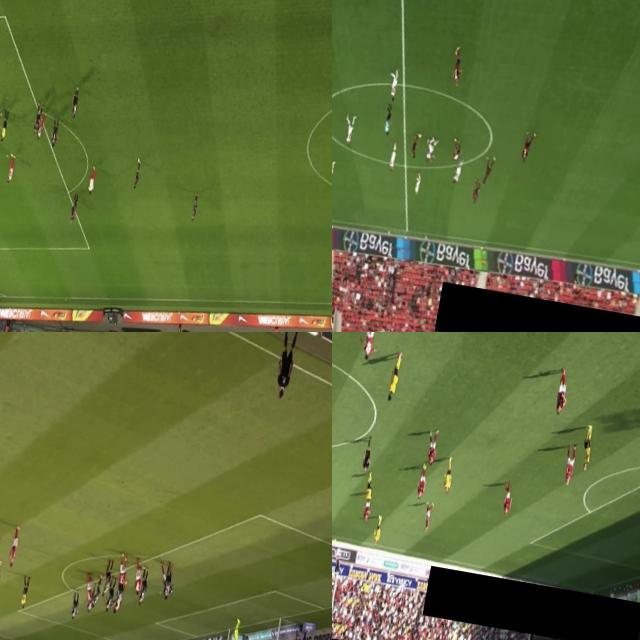ball: (418, 132, 422, 140)
player: (384, 350, 405, 402), (578, 424, 595, 476), (553, 367, 570, 418), (450, 44, 466, 92), (384, 66, 402, 106), (414, 463, 431, 504), (562, 448, 578, 490), (357, 332, 378, 363), (518, 130, 536, 166), (135, 566, 150, 608), (160, 564, 176, 602), (157, 564, 176, 596), (440, 454, 456, 491), (424, 428, 438, 468), (361, 470, 377, 504), (100, 559, 114, 596), (88, 577, 105, 606), (132, 560, 146, 594), (370, 512, 384, 546), (68, 84, 81, 120), (481, 156, 496, 187), (8, 528, 20, 566), (500, 486, 515, 516), (48, 115, 61, 148), (189, 188, 201, 223), (67, 192, 79, 227), (32, 100, 44, 135), (34, 110, 47, 142), (116, 554, 128, 588), (112, 582, 124, 616), (112, 579, 126, 608), (227, 615, 243, 640), (86, 163, 98, 196), (344, 116, 357, 146), (68, 592, 80, 624), (420, 504, 432, 536), (102, 584, 116, 610), (360, 494, 374, 520), (5, 152, 16, 184), (132, 156, 142, 190), (387, 143, 398, 173), (408, 130, 419, 160), (452, 158, 464, 185), (412, 169, 423, 198), (471, 177, 482, 206), (450, 140, 462, 163), (425, 138, 435, 164), (84, 576, 94, 600), (84, 588, 94, 612), (0, 560, 3, 600), (332, 157, 336, 186)
